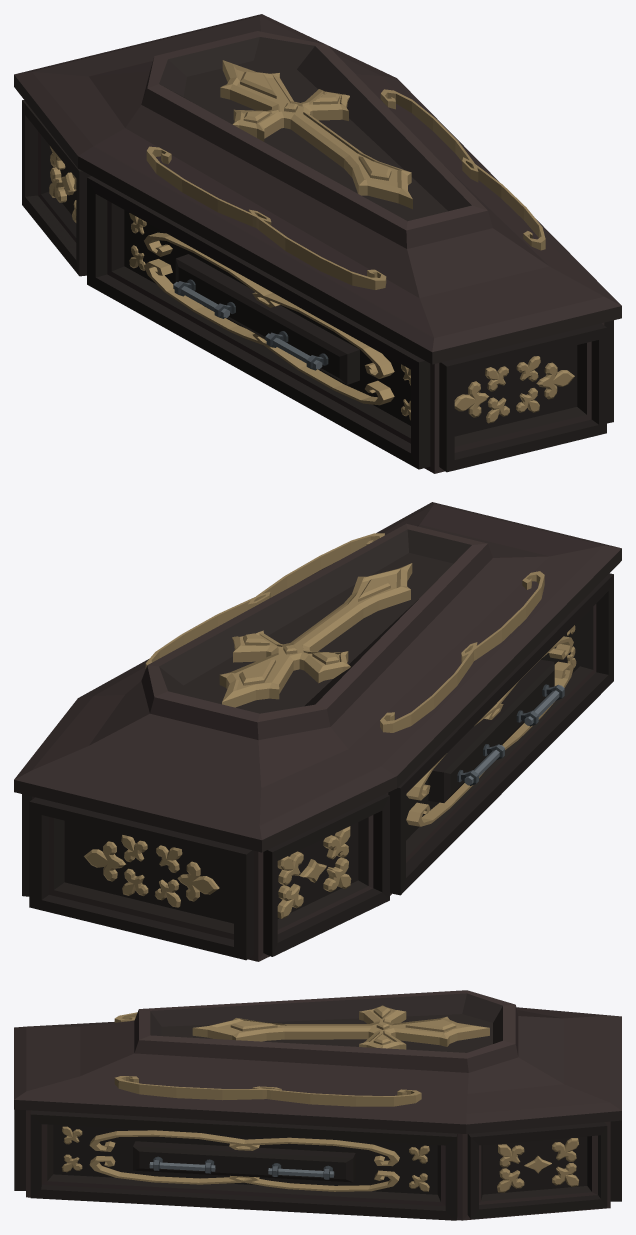
Rendered from WF_LP_HT_Props_Coffin.002.fbx.
3 renders of one model, top to bottom at view 1: azimuth 30°, elevation 25°; view 2: azimuth 150°, elevation 25°; view 3: azimuth 270°, elevation 25°, orthographic. The views are drawn at different scales.
Parts seen in each view (by area): view 1: WF_LP_HT_Props_Coffin.002; view 2: WF_LP_HT_Props_Coffin.002; view 3: WF_LP_HT_Props_Coffin.002.
Boxes of the visible parts, x1,y1,x2,y2 form: WF_LP_HT_Props_Coffin.002: [14, 14, 621, 473]; WF_LP_HT_Props_Coffin.002: [14, 502, 621, 961]; WF_LP_HT_Props_Coffin.002: [14, 990, 621, 1220].
Bounding box in the file's own units: 1.13 × 0.6135 × 2.38.
